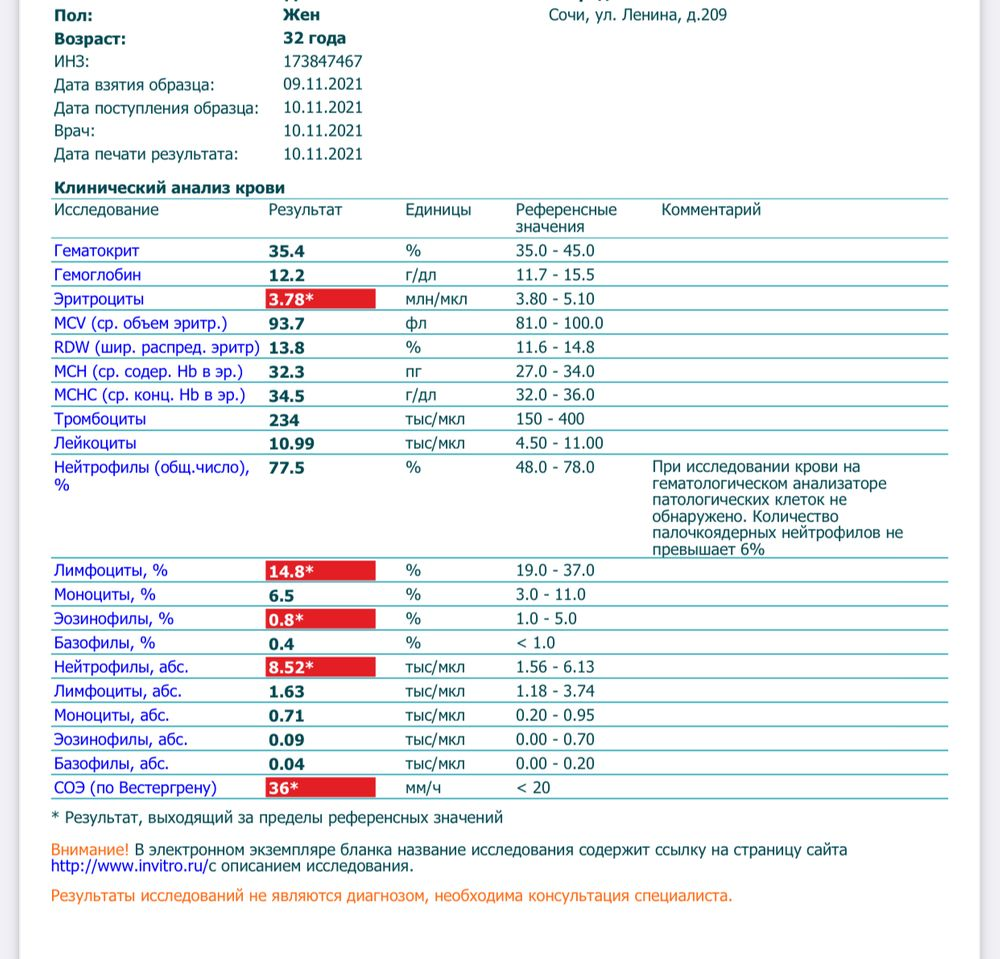column: (651, 198, 904, 798), (53, 198, 260, 798), (515, 198, 618, 798), (268, 198, 343, 798), (405, 198, 472, 798)
